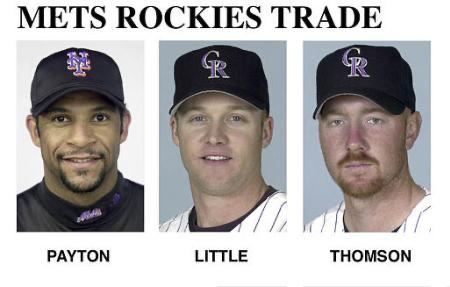Face: (315, 101, 410, 195), (175, 98, 262, 200), (36, 91, 123, 192)
